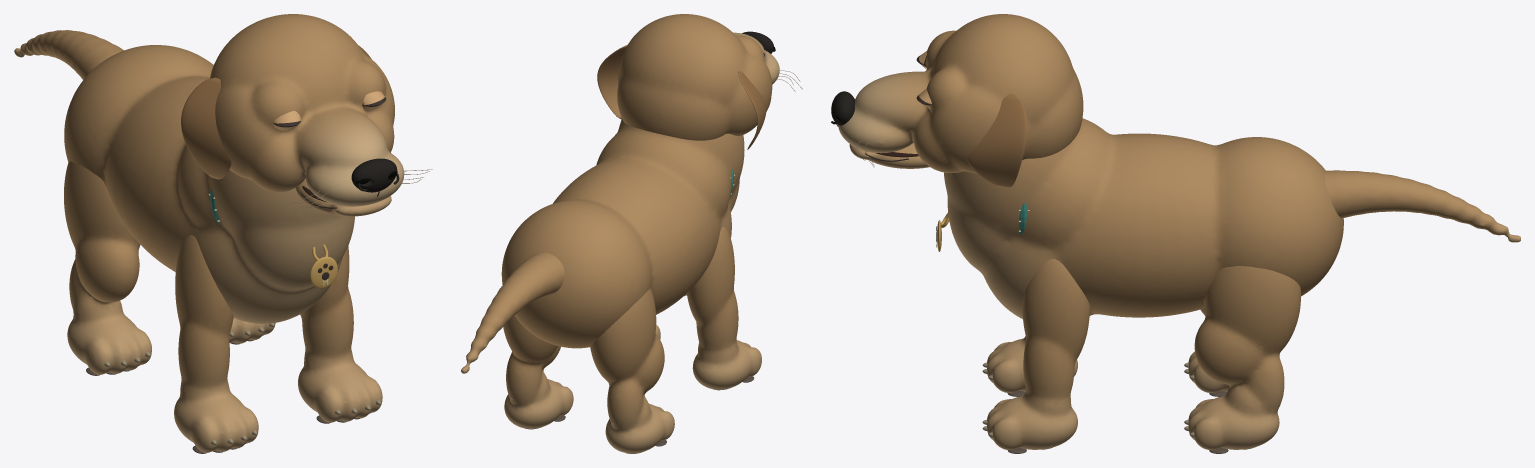
The model's file is puppy-v4.glb.
3 views of the same model, side by side, from view 1: azimuth 30°, elevation 25°; view 2: azimuth 150°, elevation 25°; view 3: azimuth 270°, elevation 25° (orthographic). The views are drawn at different scales.
Parts seen in each view (by area): view 1: Golden double coat, Golden retriever head, Hind leg and paw, Foreleg and paw, Foreleg and paw.001, Folded retriever ear, Retriever tail, Head Nose velvet, Lower jaw, Puppy Brass tag, Hind leg and paw.001; view 2: Golden double coat, Golden retriever head, Hind leg and paw, Foreleg and paw, Hind leg and paw.001, Retriever tail, Folded retriever ear.001, Folded retriever ear; view 3: Golden double coat, Golden retriever head, Hind leg and paw.001, Foreleg and paw.001, Retriever tail, Folded retriever ear.001, Foreleg and paw, Lower jaw, Hind leg and paw.
Part boxes in pixels (box(x1,y1,x2,y2)): Golden double coat: box(64, 45, 354, 323); Golden retriever head: box(210, 14, 404, 206); Hind leg and paw: box(64, 161, 151, 374); Foreleg and paw: box(174, 235, 258, 452); Foreleg and paw.001: box(298, 246, 382, 422); Folded retriever ear: box(181, 77, 231, 179); Retriever tail: box(14, 30, 123, 79); Head Nose velvet: box(351, 158, 399, 192); Lower jaw: box(295, 178, 391, 216); Puppy Brass tag: box(310, 244, 337, 288); Hind leg and paw.001: box(229, 318, 275, 343); Golden double coat: box(501, 119, 744, 348); Golden retriever head: box(617, 14, 779, 140); Hind leg and paw: box(590, 288, 674, 453); Foreleg and paw: box(686, 226, 761, 389); Hind leg and paw.001: box(503, 315, 573, 428); Retriever tail: box(461, 252, 564, 373); Folded retriever ear.001: box(597, 45, 627, 119); Folded retriever ear: box(738, 71, 766, 149); Golden double coat: box(944, 118, 1343, 318); Golden retriever head: box(838, 14, 1083, 173); Hind leg and paw.001: box(1188, 266, 1300, 449); Foreleg and paw.001: box(987, 259, 1089, 449); Retriever tail: box(1324, 170, 1520, 242); Folded retriever ear.001: box(967, 94, 1026, 188); Foreleg and paw: box(987, 336, 1077, 392); Lower jaw: box(849, 142, 929, 168); Hind leg and paw: box(1188, 308, 1229, 392).
Size of the model in its own units: 0.6856 by 1.39 by 2.2.
